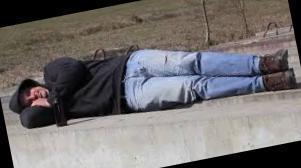Drunk: (21, 85, 50, 104)
